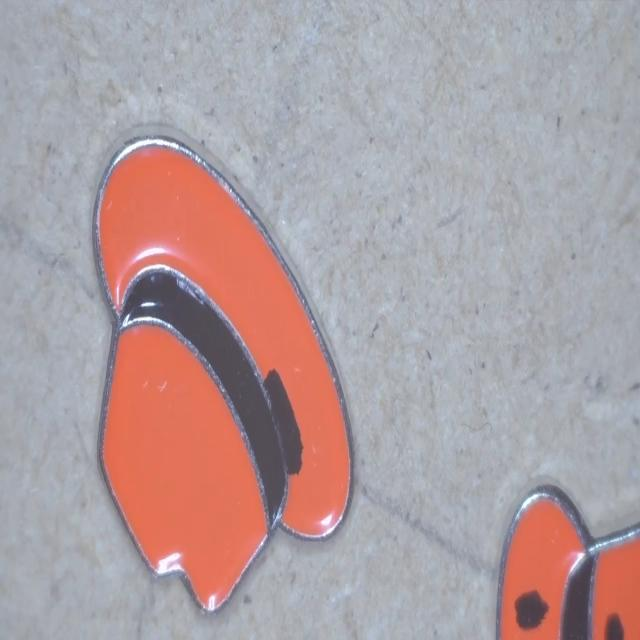Hatband: (121, 269, 288, 529), (561, 553, 596, 640)
Paint_Leak: (264, 369, 302, 476), (515, 591, 549, 628), (605, 613, 624, 640)
RedHatPin: (95, 136, 352, 611), (496, 484, 640, 639)
